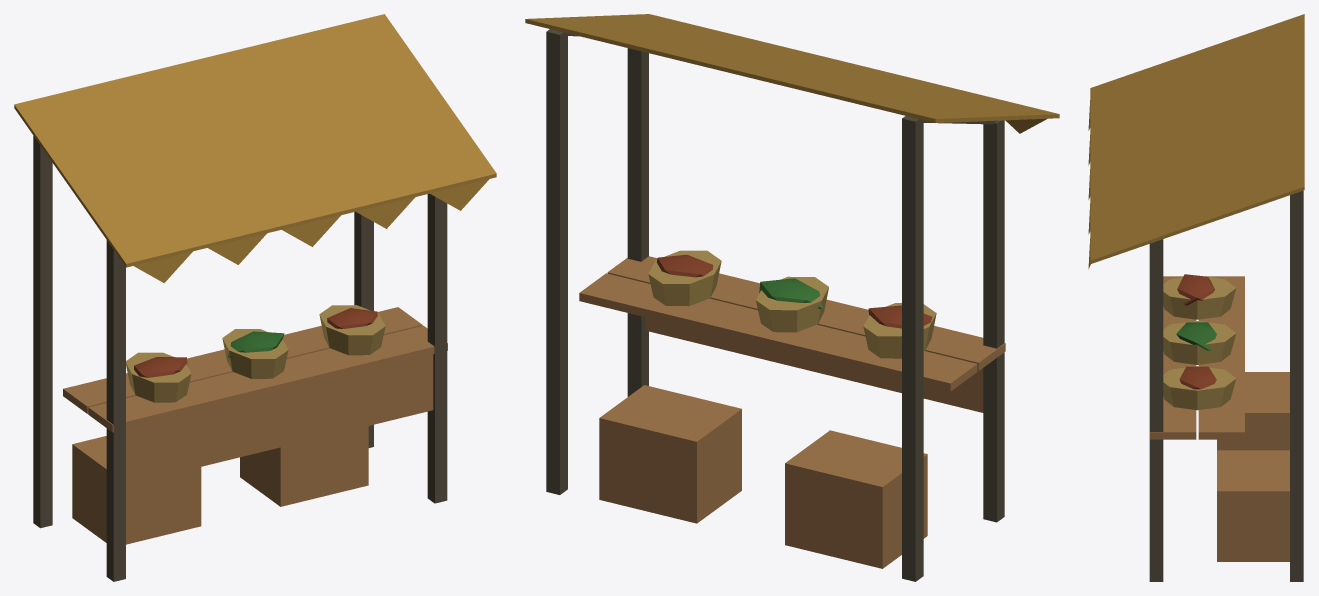
File: MarketStall.fbx
3 views of the same model, side by side, from view 1: azimuth 30°, elevation 25°; view 2: azimuth 150°, elevation 25°; view 3: azimuth 270°, elevation 25° (orthographic). The views are drawn at different scales.
Parts seen in each view (by area): view 1: MarketStall; view 2: MarketStall; view 3: MarketStall.
Part boxes in pixels (bbox=[...]): MarketStall: bbox=[14, 14, 496, 581]; MarketStall: bbox=[525, 14, 1059, 581]; MarketStall: bbox=[1088, 14, 1304, 581].
Size of the model in its own units: 2.1 by 2.29 by 1.11.
